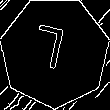L_S: (35, 24, 75, 80)
